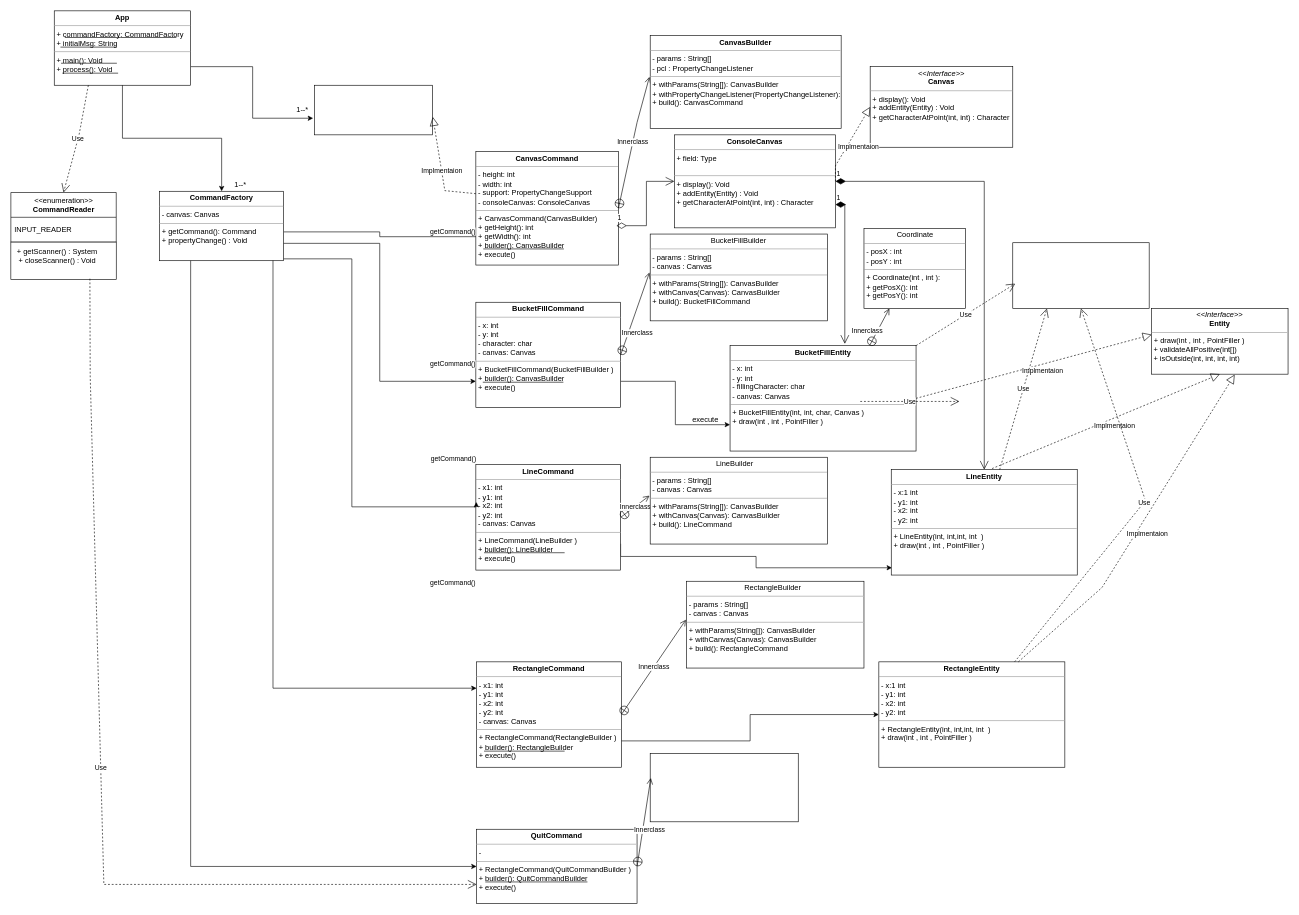
Some shapes in this 1299 by 915 pixel diagram are drawn without their labels. Each missing label, with the centre of its shape:
<<Interface>> Command + execute(): Void: point (373, 110)
<<Interface>> PointFiller + fill(int , int , char ): point (1080, 275)
QuitCommandBuilder - + build(): RectangleCommand: point (724, 787)
